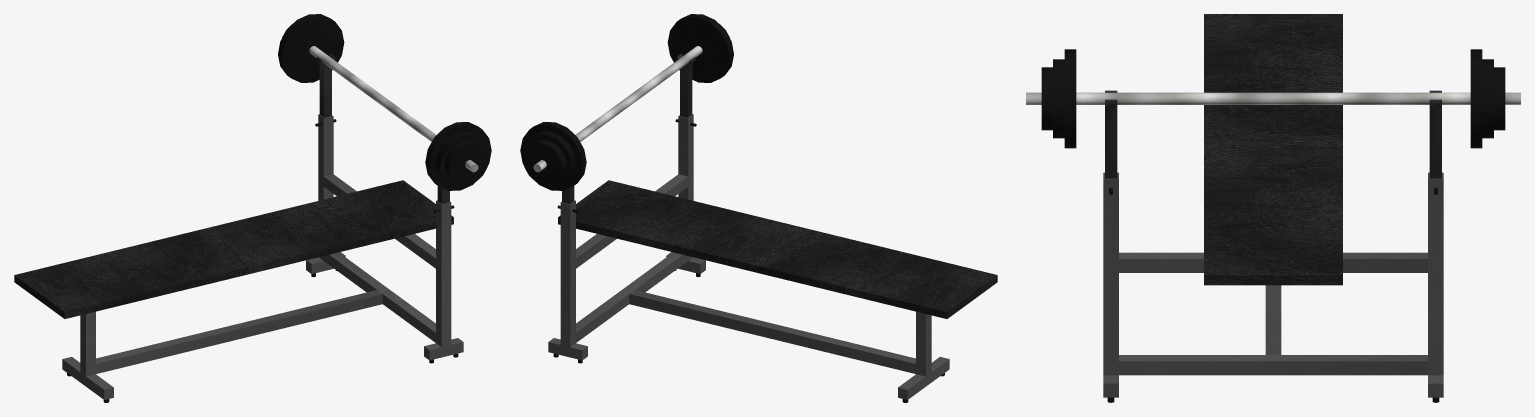
Rendered from benchpress.obj.
The picture shows the model from 3 angles, left to right: view 1: azimuth 30°, elevation 25°; view 2: azimuth 150°, elevation 25°; view 3: azimuth 270°, elevation 25°; orthographic projection. The views are drawn at different scales.
Visible parts, largest first — view 1: skin; view 2: skin; view 3: skin.
Boxes of the visible parts, x1,y1,x2,y2 form: skin: (14,14,491,402); skin: (520,14,997,402); skin: (1026,14,1520,402).
Size of the model in its own units: 8 by 4.84 by 6.4.
1 material, 1 textured.
